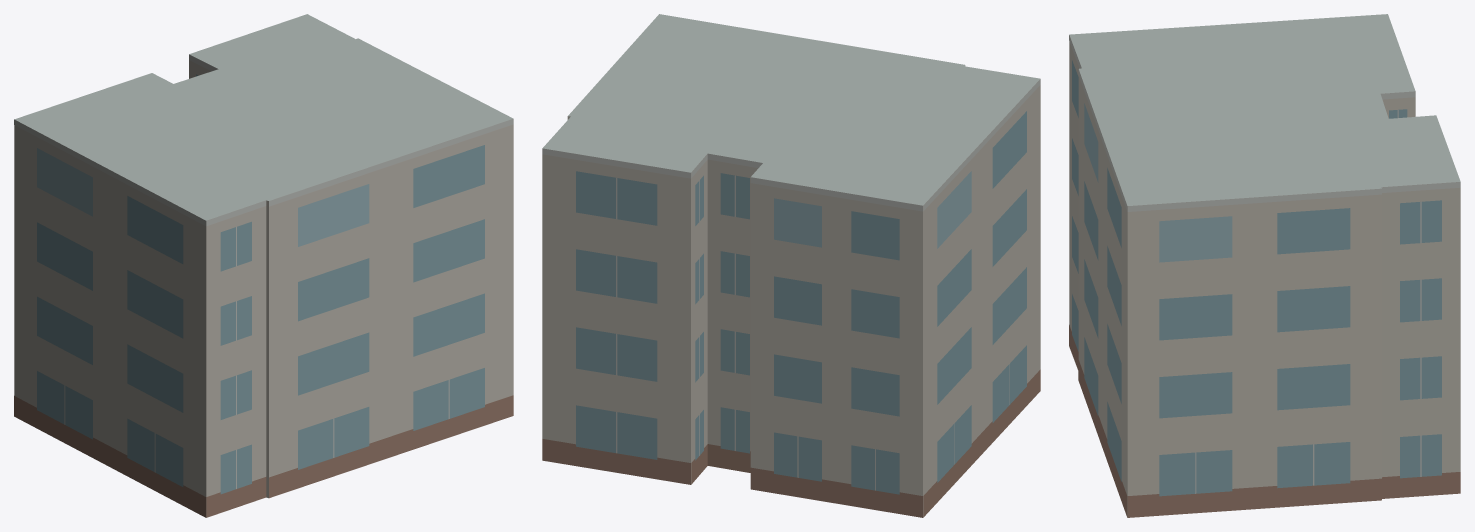
Rendered from survey-upis-32577181.glb.
The picture shows the model from 3 angles, left to right: view 1: azimuth 30°, elevation 25°; view 2: azimuth 150°, elevation 25°; view 3: azimuth 270°, elevation 25°; orthographic projection. The views are drawn at different scales.
Visible parts, largest first — view 1: survey-upis-32577181.tmp; view 2: survey-upis-32577181.tmp; view 3: survey-upis-32577181.tmp.
Boxes of the visible parts, bbox=[...] form: survey-upis-32577181.tmp: bbox=[14, 14, 513, 517]; survey-upis-32577181.tmp: bbox=[542, 14, 1040, 517]; survey-upis-32577181.tmp: bbox=[1069, 14, 1460, 517].
Size of the model in its own units: 16.93 by 12.8 by 14.58.
